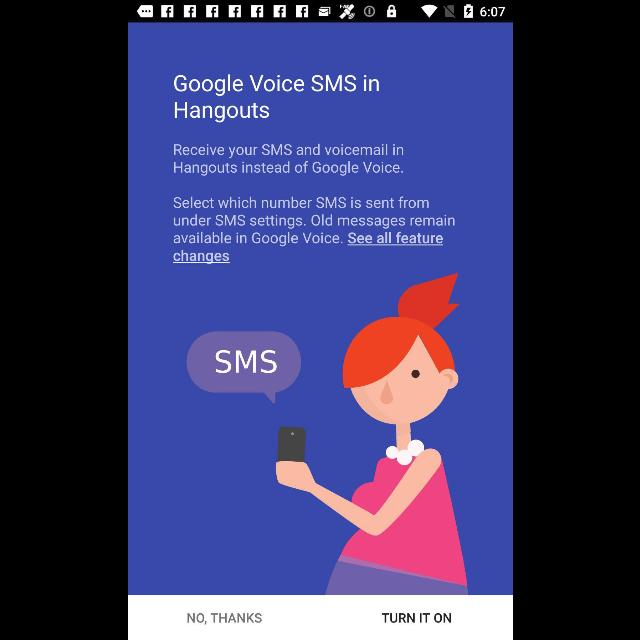image: (186, 273, 467, 595)
text: (172, 196, 454, 264), (173, 74, 379, 124), (173, 143, 403, 177), (186, 613, 262, 625), (381, 613, 451, 623)
uppertaskbar: (128, 1, 512, 23)
